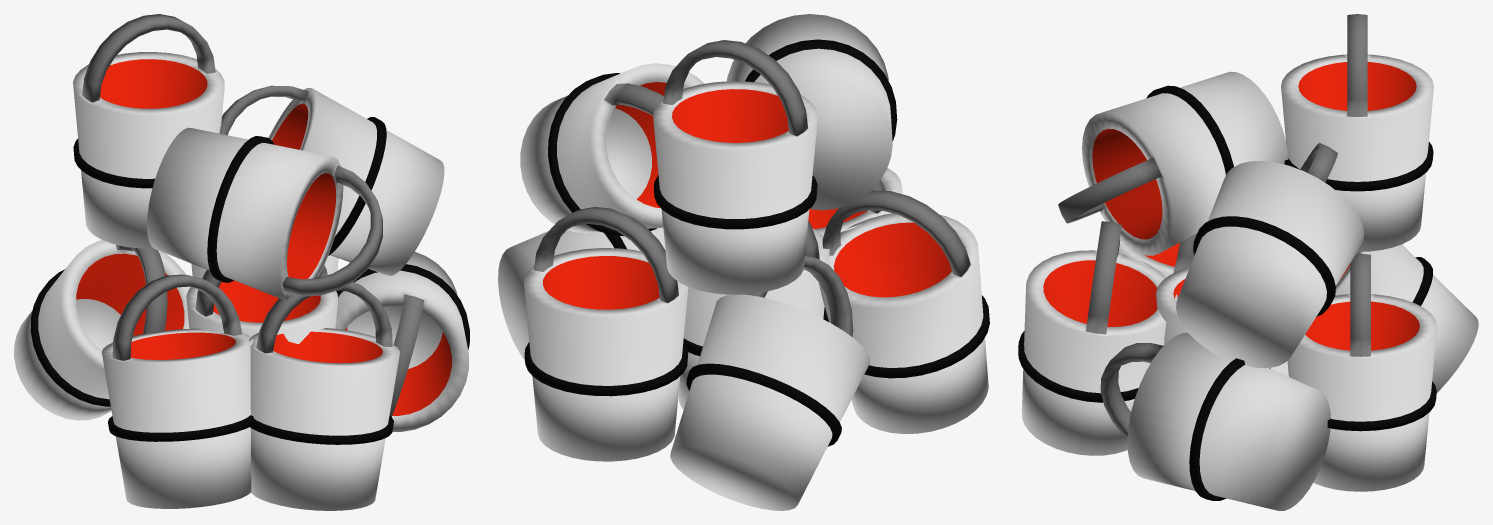
Rendered from Buckets1.fbx.
The picture shows the model from 3 angles, left to right: view 1: azimuth 30°, elevation 25°; view 2: azimuth 150°, elevation 25°; view 3: azimuth 270°, elevation 25°; orthographic projection. The views are drawn at different scales.
Visible parts, largest first — view 1: Cylinder.007; view 2: Cylinder.007; view 3: Cylinder.007.
Part boxes in pixels (x1,y1,x2,y2): Cylinder.007: [14, 14, 469, 510]; Cylinder.007: [498, 14, 989, 510]; Cylinder.007: [1018, 14, 1478, 510].
Size of the model in its own units: 595 by 586 by 601.
